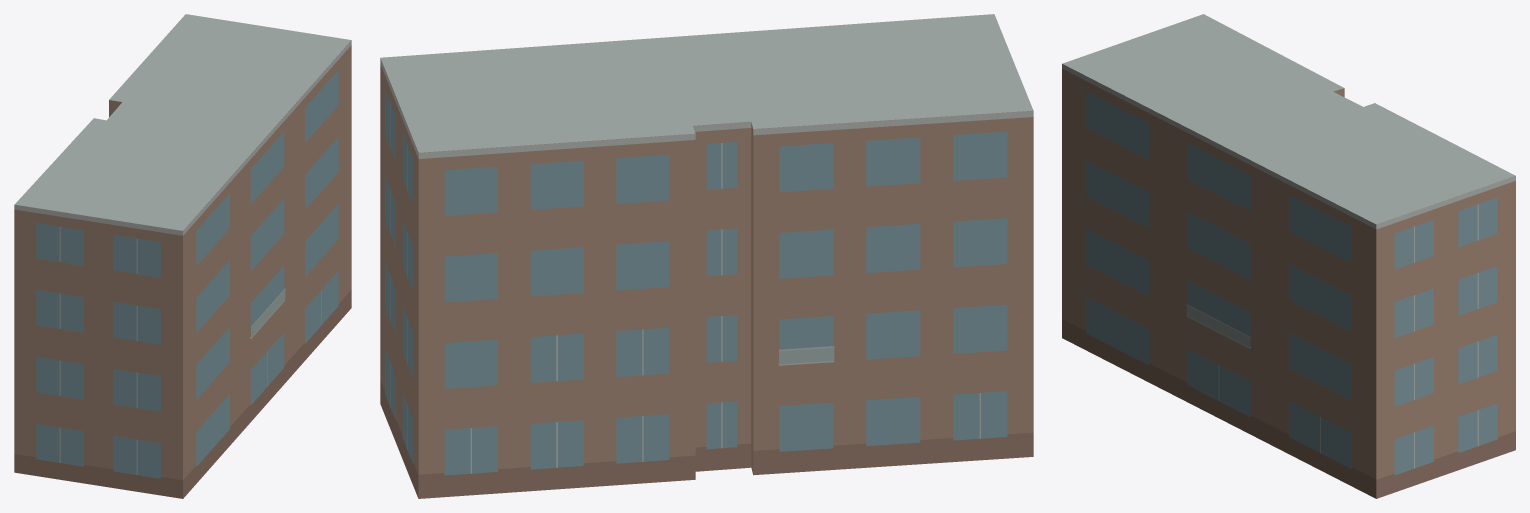
The model's file is survey-upis-32747087.glb.
3 views of the same model, side by side, from view 1: azimuth 30°, elevation 25°; view 2: azimuth 150°, elevation 25°; view 3: azimuth 270°, elevation 25° (orthographic). The views are drawn at different scales.
Visible parts, largest first — view 1: survey-upis-32747087.tmp; view 2: survey-upis-32747087.tmp; view 3: survey-upis-32747087.tmp.
Part boxes in pixels (x1,y1,x2,y2): survey-upis-32747087.tmp: (14, 14, 351, 498); survey-upis-32747087.tmp: (380, 14, 1033, 498); survey-upis-32747087.tmp: (1062, 14, 1515, 498).
Size of the model in its own units: 22.15 by 13.45 by 20.17.
